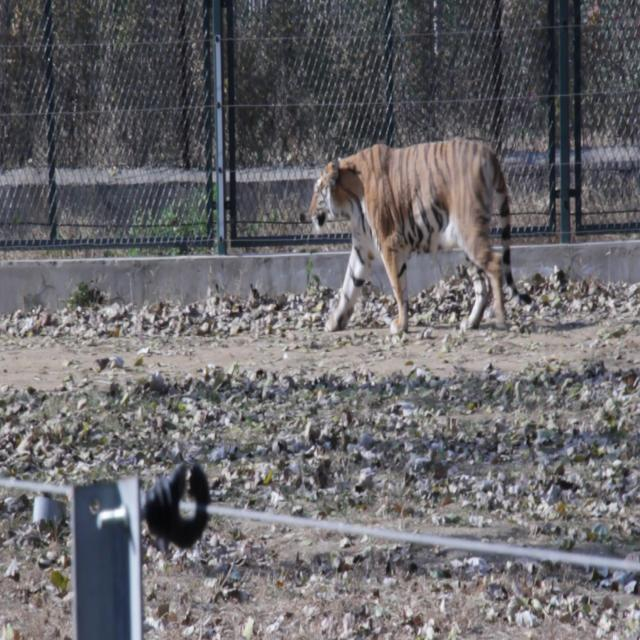Tiger: (307, 124, 524, 336)
